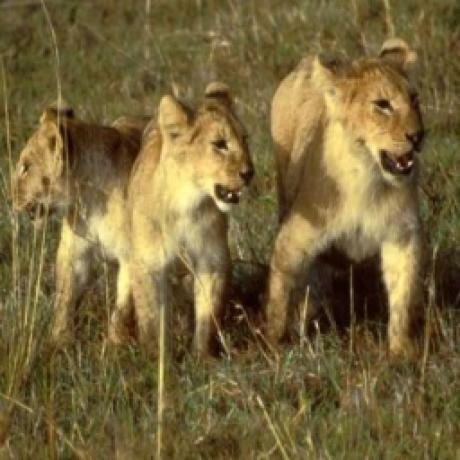Lion: (265, 43, 436, 358), (126, 77, 259, 354), (6, 96, 144, 340)
